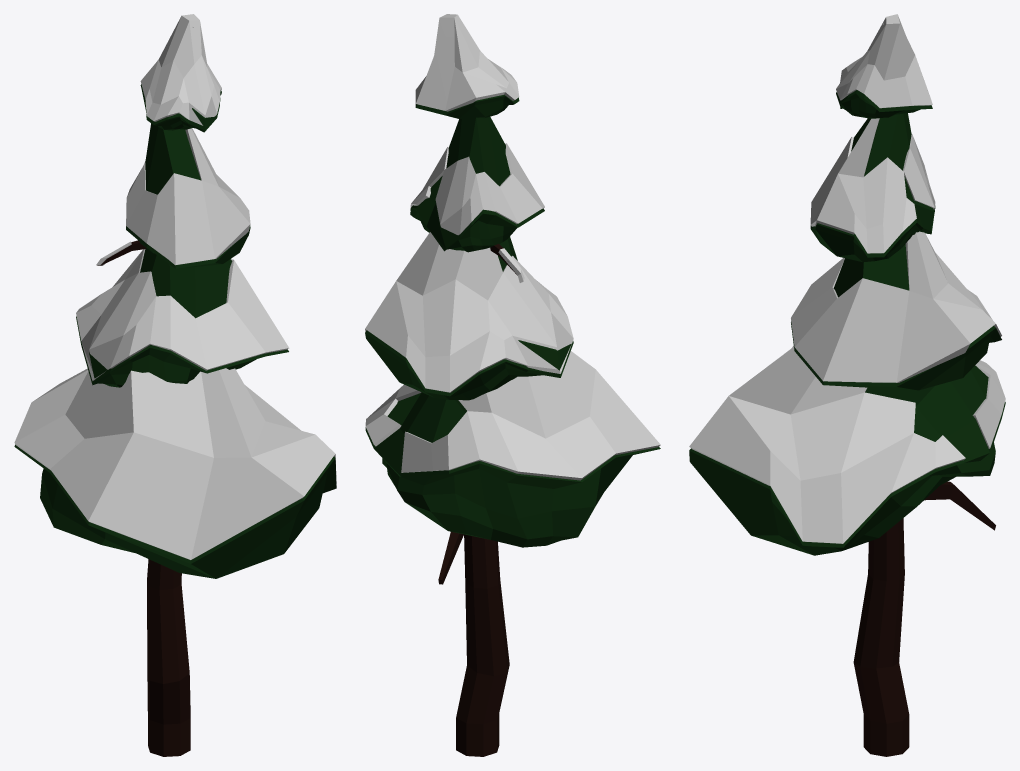
The model's file is ElkSnow2.obj.
3 renders of one model, left to right at view 1: azimuth 30°, elevation 25°; view 2: azimuth 150°, elevation 25°; view 3: azimuth 270°, elevation 25°, orthographic. The views are drawn at different scales.
Parts seen in each view (by area): view 1: Cube.221, Cube.220, Cube.219, Cube.217, Cylinder.118, Cube.216, Cube.218, Cube.215, Cube.214; view 2: Cube.220, Cube.221, Cube.217, Cylinder.118, Cube.215, Cube.219, Cube.218, Cube.216, Cube.214; view 3: Cube.221, Cube.220, Cube.217, Cylinder.118, Cube.219, Cube.218, Cube.216, Cube.215, Cube.214.
Boxes of the visible parts, x1,y1,x2,y2 form: Cube.221: [14, 368, 336, 559]; Cube.220: [76, 249, 288, 380]; Cube.219: [126, 128, 250, 265]; Cube.217: [14, 444, 336, 578]; Cylinder.118: [101, 240, 190, 756]; Cube.216: [76, 248, 288, 387]; Cube.218: [140, 14, 221, 125]; Cube.215: [126, 123, 250, 268]; Cube.214: [140, 84, 221, 132]; Cube.220: [365, 232, 573, 392]; Cube.221: [365, 351, 660, 480]; Cube.217: [365, 392, 660, 547]; Cylinder.118: [438, 244, 517, 756]; Cube.215: [410, 117, 544, 252]; Cube.219: [410, 143, 544, 235]; Cube.218: [415, 14, 519, 111]; Cube.216: [365, 237, 573, 400]; Cube.214: [415, 95, 519, 118]; Cube.221: [689, 346, 1005, 543]; Cube.220: [791, 231, 1001, 382]; Cube.217: [689, 365, 1005, 555]; Cylinder.118: [853, 481, 995, 756]; Cube.219: [810, 118, 935, 253]; Cube.218: [836, 14, 932, 108]; Cube.216: [791, 244, 1001, 390]; Cube.215: [810, 113, 935, 262]; Cube.214: [836, 90, 932, 118].
Bounding box in the file's own units: 13.44 × 35.95 × 13.9.
